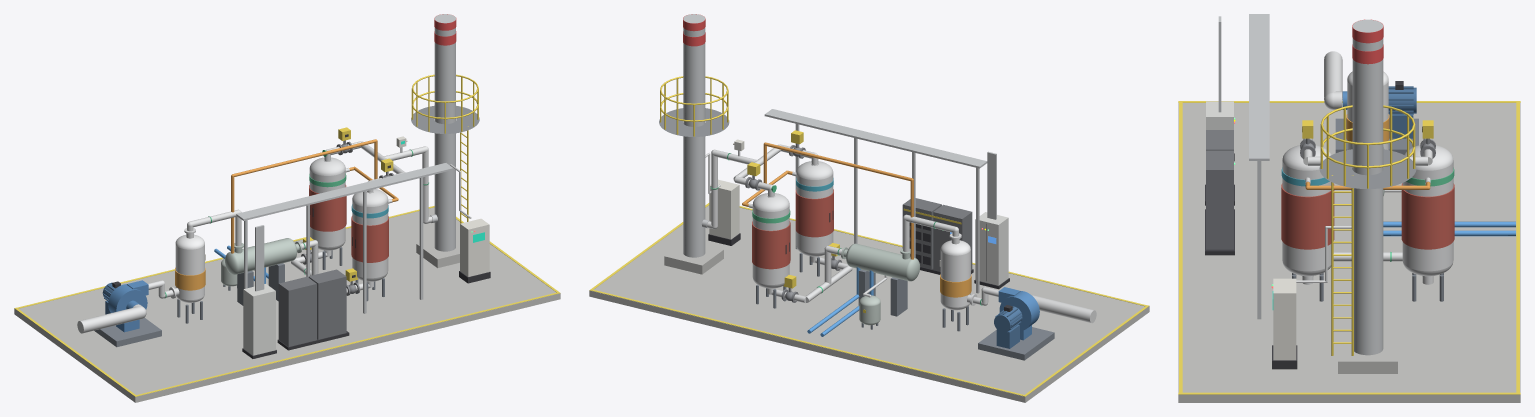
File: ads-digital-twin-plant.glb
3 renders of one model, left to right at view 1: azimuth 30°, elevation 25°; view 2: azimuth 150°, elevation 25°; view 3: azimuth 270°, elevation 25°, orthographic. The views are drawn at different scales.
Visible parts, largest first — view 1: skid, stack, backupSupply, cableTray, pipework, dryerB, dryerA, blower, condenser, recombiner, controller, stackMonitor (+2 smaller); view 2: skid, stack, pipework, cableTray, dryerA, dryerB, condenser, blower, backupSupply, recombiner, controller, stackMonitor (+3 smaller); view 3: skid, stack, dryerA, dryerB, cableTray, backupSupply, stackMonitor, blower, pipework, condenser, recombiner, changeoverValves (+2 smaller).
Part boxes in pixels (box(x1,y1,x2,y2)): skid: box(14, 206, 560, 402); stack: box(411, 14, 479, 268); backupSupply: box(277, 269, 349, 350); cableTray: box(236, 163, 453, 313); pipework: box(77, 141, 432, 333); dryerB: box(351, 189, 392, 301); dryerA: box(309, 157, 349, 269); blower: box(94, 280, 161, 347); condenser: box(214, 238, 301, 305); recombiner: box(169, 228, 205, 323); controller: box(242, 284, 276, 358); stackMonitor: box(450, 164, 490, 283); skid: box(589, 203, 1149, 402); stack: box(659, 14, 729, 274); pipework: box(707, 144, 1096, 323); cableTray: box(764, 109, 996, 293); dryerA: box(748, 193, 790, 308); dryerB: box(792, 161, 833, 276); condenser: box(807, 243, 919, 336); blower: box(978, 287, 1054, 360); backupSupply: box(902, 198, 973, 274); recombiner: box(939, 233, 977, 331); controller: box(974, 212, 1009, 289); stackMonitor: box(705, 152, 740, 245); skid: box(1178, 101, 1520, 402); stack: box(1319, 19, 1416, 373); dryerA: box(1401, 145, 1454, 301); dryerB: box(1281, 145, 1334, 301); cableTray: box(1218, 14, 1269, 319); backupSupply: box(1205, 130, 1235, 255); stackMonitor: box(1271, 226, 1351, 369); blower: box(1335, 81, 1418, 154); pipework: box(1303, 51, 1432, 284); condenser: box(1351, 147, 1515, 236); recombiner: box(1346, 71, 1389, 149); changeoverValves: box(1300, 120, 1435, 158).
Size of the model in its own units: 15 by 8.2 by 7.4.
